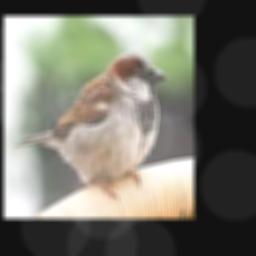Sparrow: (15, 50, 169, 201)
